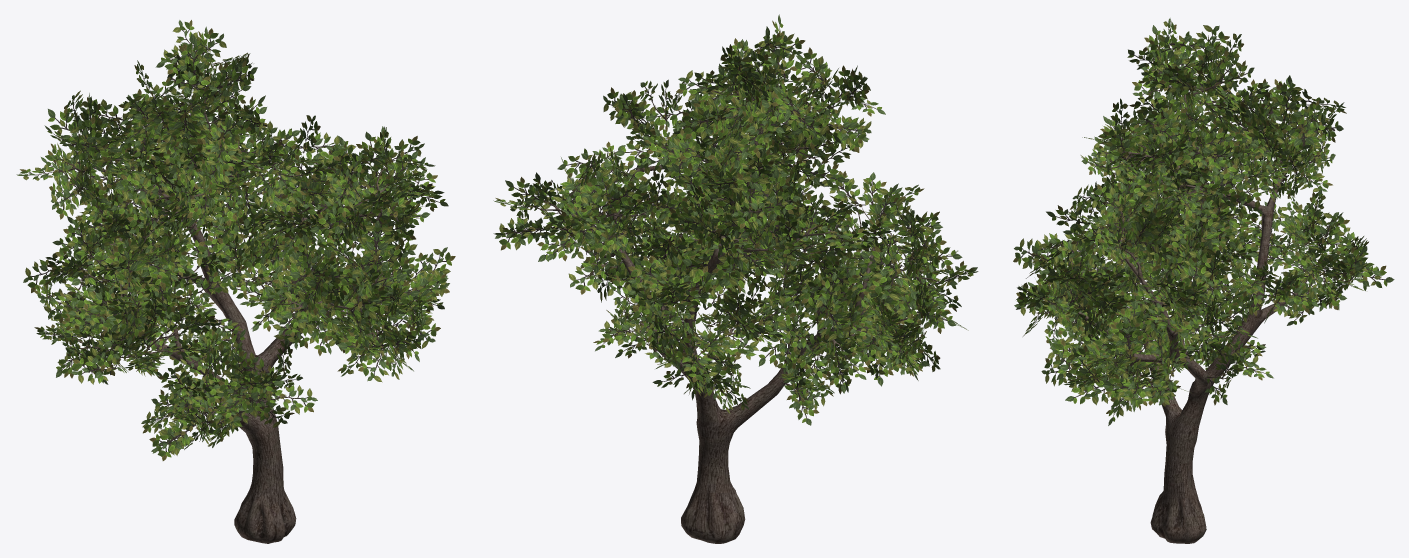
Rendered from arbre.glb.
3 views of the same model, side by side, from view 1: azimuth 30°, elevation 25°; view 2: azimuth 150°, elevation 25°; view 3: azimuth 270°, elevation 25° (orthographic). The views are drawn at different scales.
Visible parts, largest first — view 1: leaves, bark; view 2: leaves, bark; view 3: leaves, bark.
Boxes of the visible parts, left/top/right/bottom form: leaves: left=16, top=20, right=455, bottom=460; bark: left=50, top=62, right=423, bottom=543; leaves: left=493, top=14, right=978, bottom=425; bark: left=532, top=87, right=941, bottom=543; leaves: left=1013, top=18, right=1394, bottom=425; bark: left=1036, top=81, right=1346, bottom=543.
Bounding box in the file's own units: 7.31 × 8 × 5.8.
Materials: 2 (2 with a texture image).
